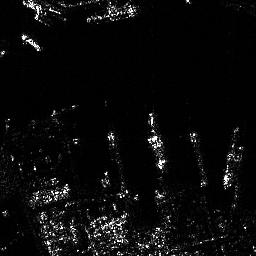ship: (145, 112, 167, 171), (85, 3, 141, 24), (223, 125, 241, 190), (19, 34, 41, 51)
